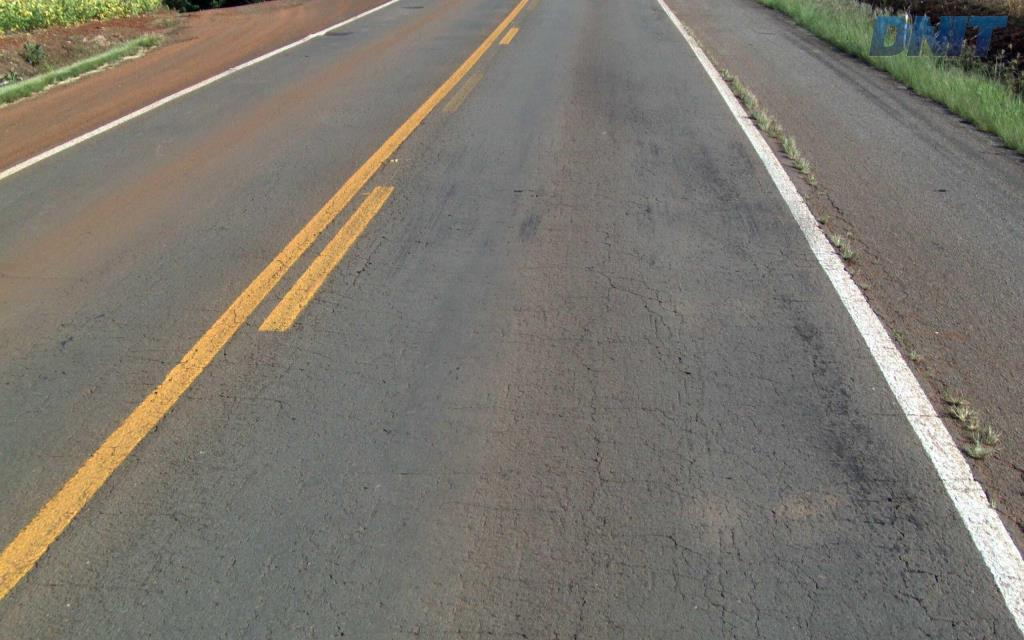crack: (846, 454, 917, 528)
